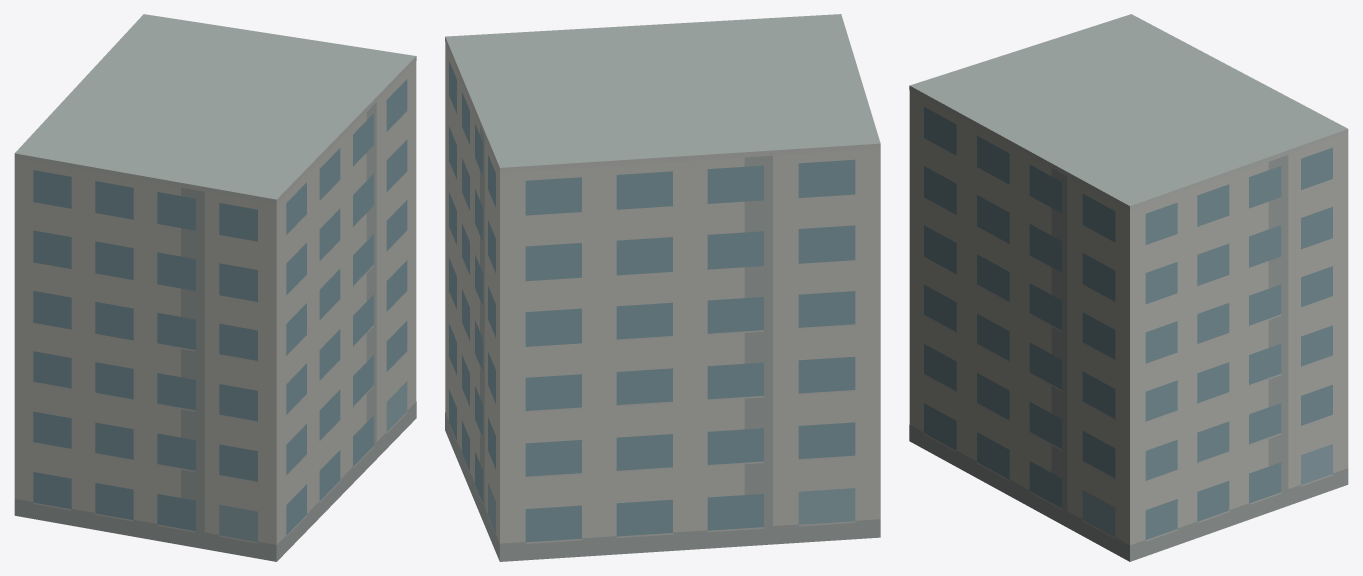
Rendered from survey-upis-32940274.glb.
The picture shows the model from 3 angles, left to right: view 1: azimuth 30°, elevation 25°; view 2: azimuth 150°, elevation 25°; view 3: azimuth 270°, elevation 25°; orthographic projection. The views are drawn at different scales.
Parts seen in each view (by area): view 1: survey-upis-32940274.tmp; view 2: survey-upis-32940274.tmp; view 3: survey-upis-32940274.tmp.
Boxes of the visible parts, bbox=[...] form: survey-upis-32940274.tmp: bbox=[14, 14, 416, 561]; survey-upis-32940274.tmp: bbox=[445, 14, 880, 561]; survey-upis-32940274.tmp: bbox=[909, 14, 1348, 561].
Bounding box in the file's own units: 21.21 × 18.3 × 20.47.
